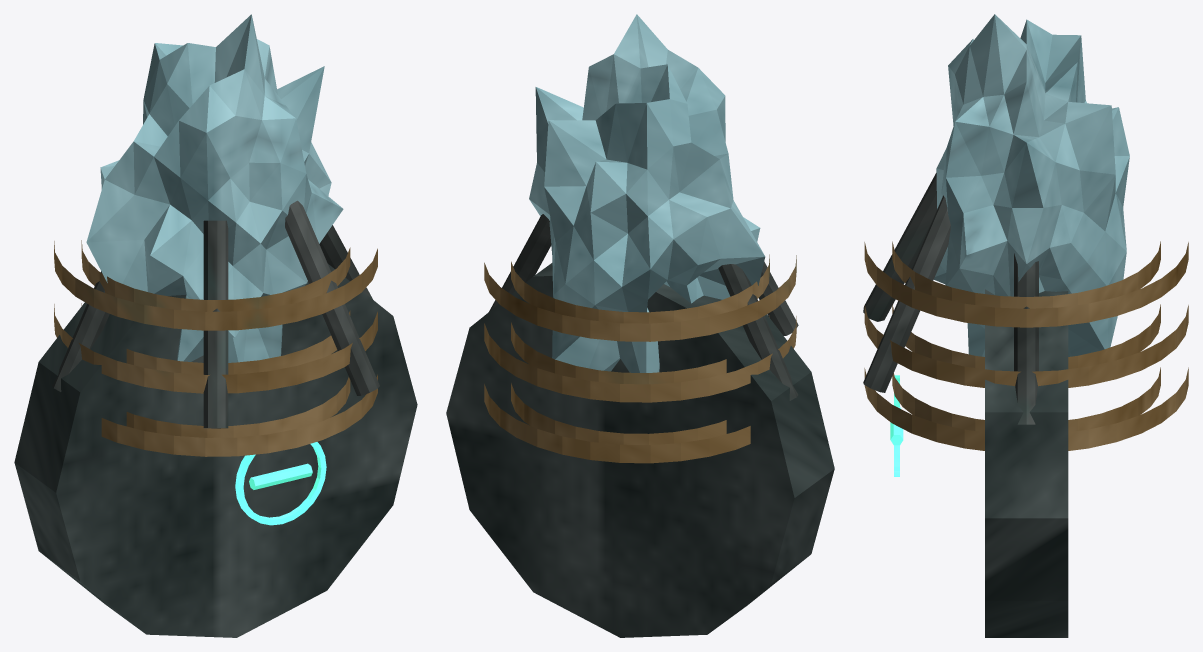
File: 0986_offering_relic_11.glb
The picture shows the model from 3 angles, left to right: view 1: azimuth 30°, elevation 25°; view 2: azimuth 150°, elevation 25°; view 3: azimuth 270°, elevation 25°; orthographic projection. The views are drawn at different scales.
Parts seen in each view (by area): view 1: stone_dark, ice, brass, iron, glow; view 2: stone_dark, ice, brass, iron; view 3: ice, brass, stone_dark, iron, glow.
Part boxes in pixels (box(x1,y1,x2,y2)): stone_dark: box(14, 264, 417, 637); ice: box(86, 14, 343, 362); brass: box(54, 240, 377, 456); iron: box(52, 200, 379, 428); glow: box(235, 442, 326, 525); stone_dark: box(446, 263, 834, 637); ice: box(529, 14, 765, 372); brass: box(484, 254, 796, 463); iron: box(489, 214, 798, 400); ice: box(934, 14, 1129, 356); brass: box(864, 241, 1188, 450); stone_dark: box(985, 289, 1068, 637); iron: box(863, 172, 1038, 424); glow: box(890, 375, 903, 476).
Bounding box in the file's own units: 0.9 × 1.46 × 0.7028.
5 materials, 5 textured.
